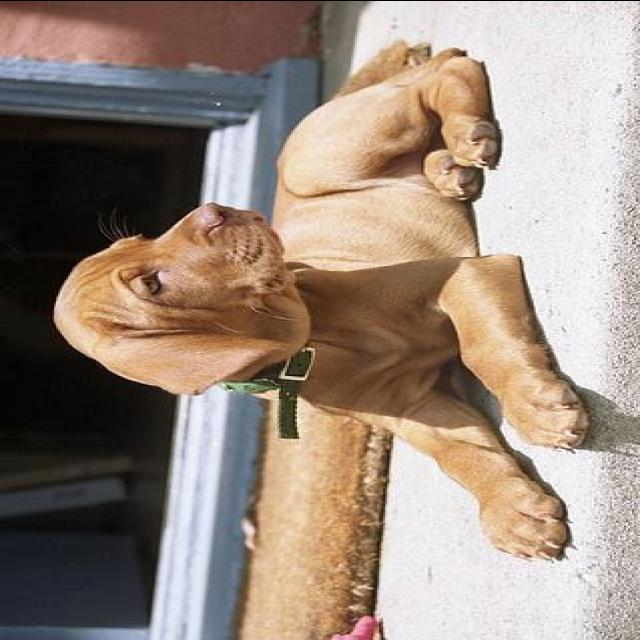vizsla: (52, 38, 590, 564)
